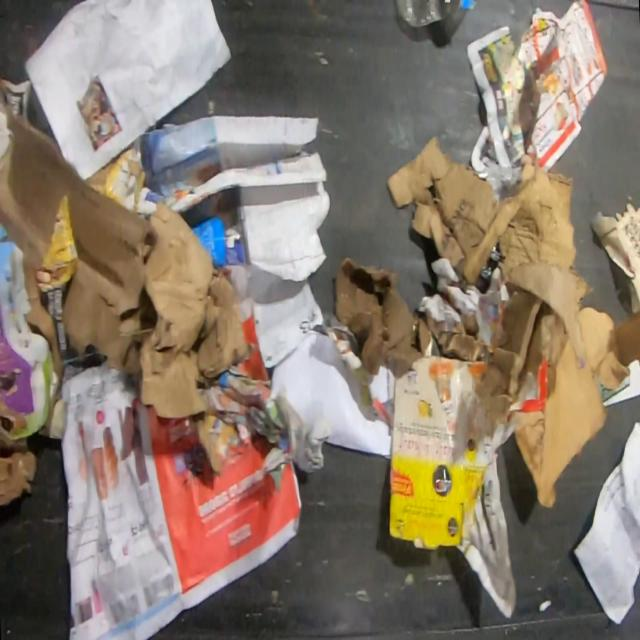cardboard: (0, 87, 251, 419), (384, 132, 594, 367), (333, 255, 568, 433), (514, 305, 640, 509), (386, 355, 495, 551), (0, 220, 67, 509), (36, 194, 79, 294), (84, 147, 148, 211)
rigid_plastic: (395, 1, 462, 31)
